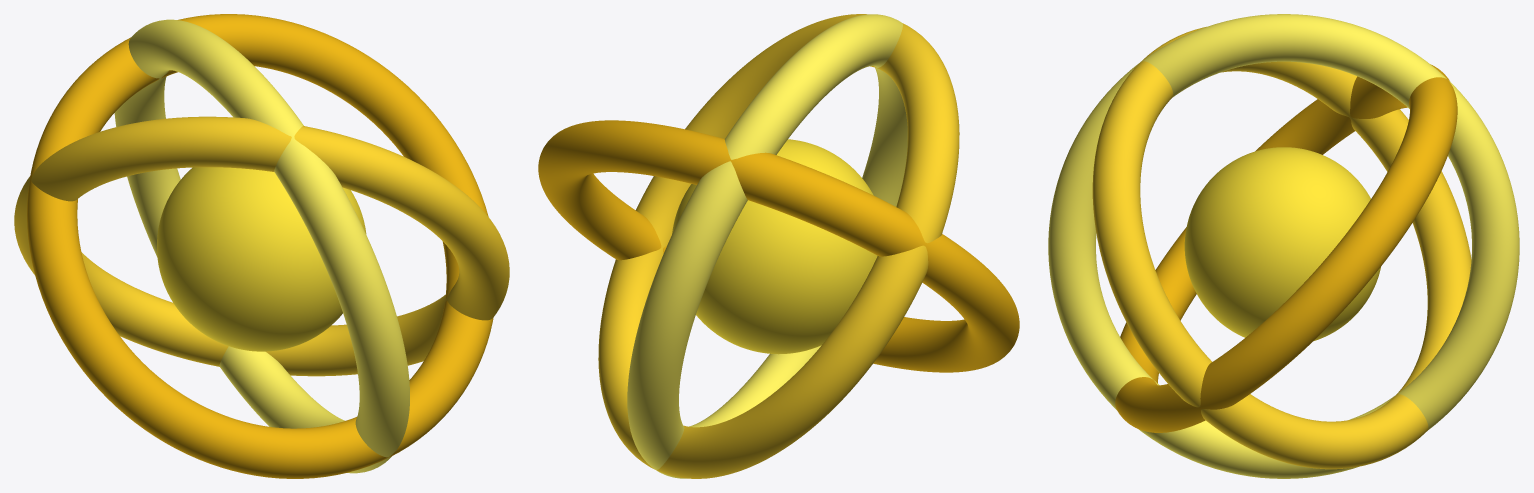
The model's file is enerji.glb.
3 renders of one model, left to right at view 1: azimuth 30°, elevation 25°; view 2: azimuth 150°, elevation 25°; view 3: azimuth 270°, elevation 25°, orthographic. The views are drawn at different scales.
Size of the model in its own units: 0.0356 by 0.0345 by 0.0356.
